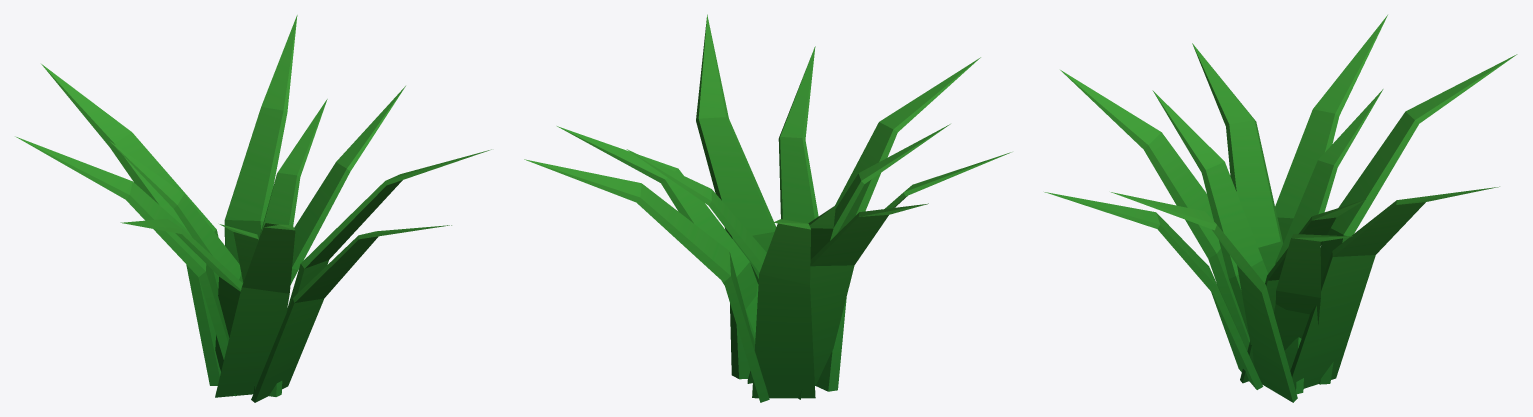
Rendered from Grass_bush_high_011.fbx.
3 renders of one model, left to right at view 1: azimuth 30°, elevation 25°; view 2: azimuth 150°, elevation 25°; view 3: azimuth 270°, elevation 25°, orthographic. The views are drawn at different scales.
Parts seen in each view (by area): view 1: Grass_bush_high_01; view 2: Grass_bush_high_01; view 3: Grass_bush_high_01.
Boxes of the visible parts, bbox=[...] form: Grass_bush_high_01: bbox=[15, 15, 491, 402]; Grass_bush_high_01: bbox=[524, 14, 1011, 402]; Grass_bush_high_01: bbox=[1044, 15, 1517, 402].
Bounding box in the file's own units: 184 × 122 × 192.
